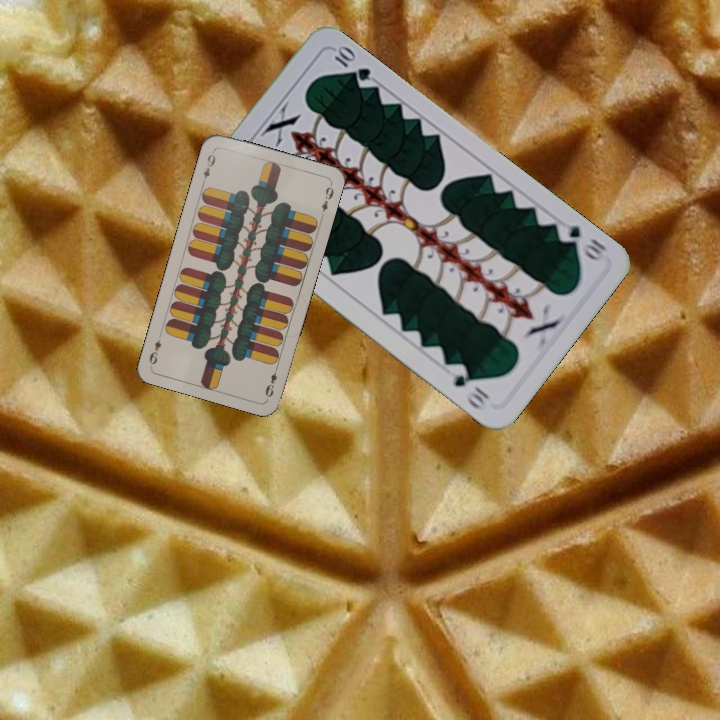E9: (198, 147, 218, 186), (261, 362, 281, 400)
G10: (552, 218, 609, 264)
